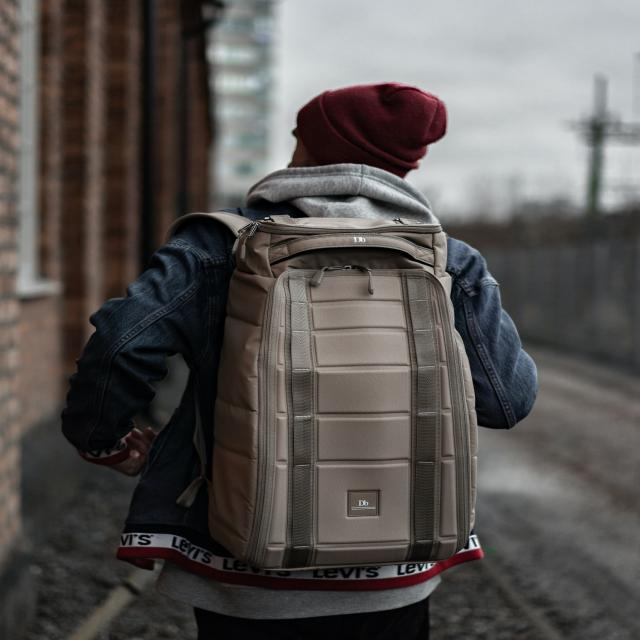backpack: (141, 203, 478, 565)
